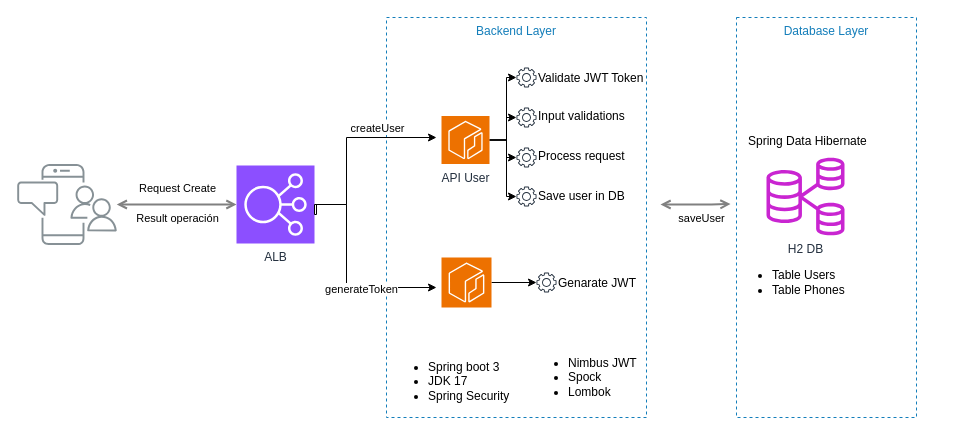
Some shapes in this 960 by 435 pixel diagram are drawn without their labels. Here are the shapes that lost their labels. From the top down, the centre of each, then its label:
At pixel 66 204: "client".
At pixel 466 282: "API Security".
